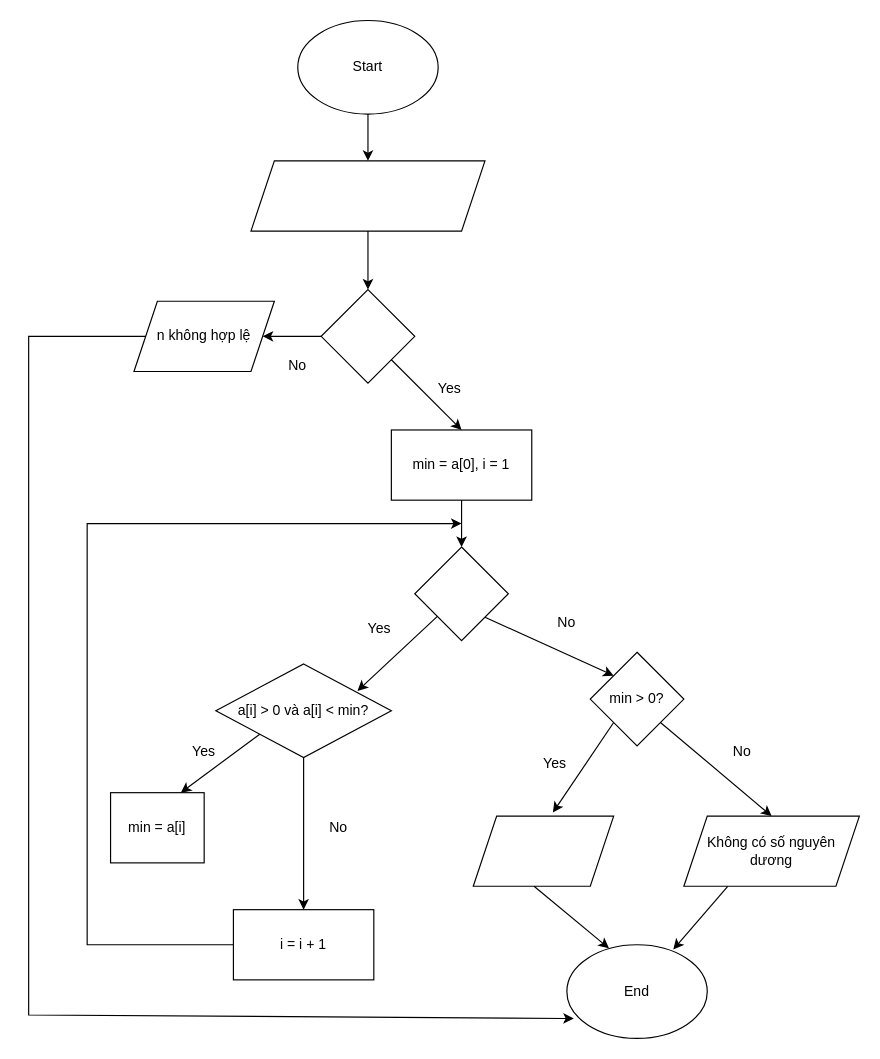
The diagram is 880 pixels wide and 1059 high, and some of its shapes have lost their labels. The shapes that lost their labels are listed below. From the top down, each one's centre as x and y in pixels, then its label:
point (367, 195): Nh ậ p m ả ng a [] v à s ố l ượ ng n
point (367, 335): n > 0 ?
point (461, 593): i < n ?
point (543, 850): Hiển thị min
